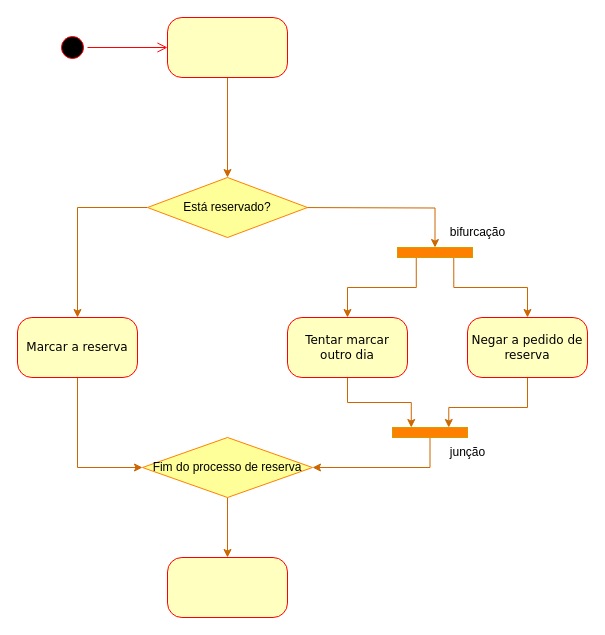
This 605x635 diagram has some shape labels left out. The shapes that lost their labels are listed below. From the top down, each one's centre as x and y in pixels, then its label:
At (x=227, y=47): "Receber pedido de reserva do morador".
At (x=227, y=587): "Finalizar pedido do morador".
